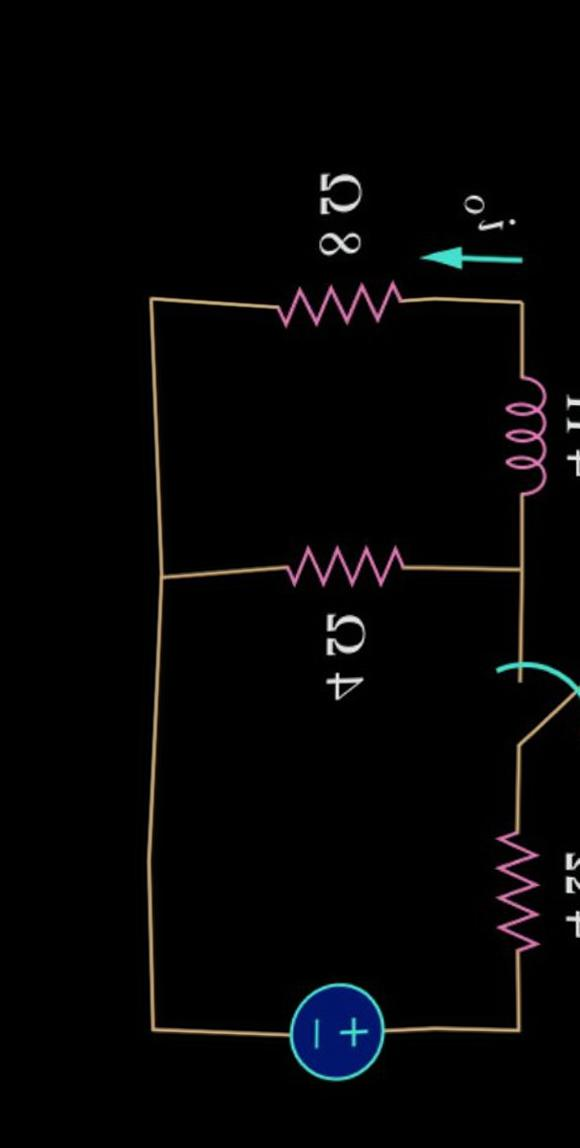Battery: (277, 948, 413, 1087)
